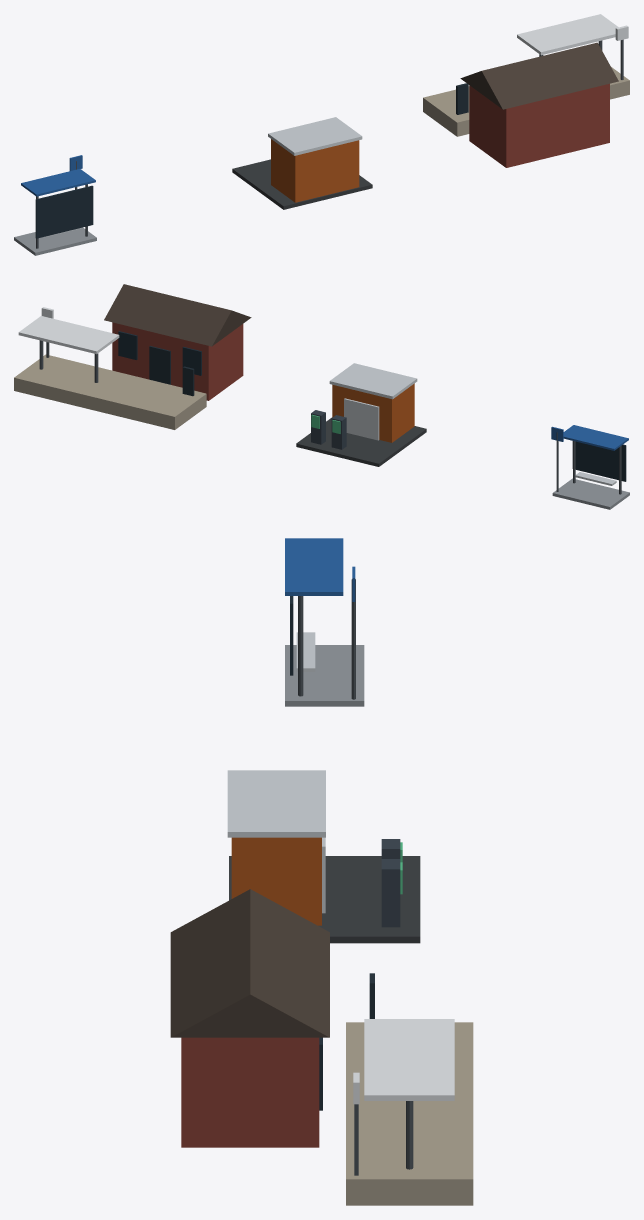
The model's file is stations.glb.
3 views of the same model, one above another, from view 1: azimuth 30°, elevation 25°; view 2: azimuth 150°, elevation 25°; view 3: azimuth 270°, elevation 25° (orthographic). The views are drawn at different scales.
Parts seen in each view (by area): view 1: trainStation, truckStop, busStop; view 2: trainStation, truckStop, busStop; view 3: trainStation, truckStop, busStop.
Boxes of the visible parts, <box> form: trainStation: <box>423,14,629,167</box>; truckStop: <box>232,117,372,209</box>; busStop: <box>14,155,96,255</box>; trainStation: <box>14,284,251,429</box>; truckStop: <box>296,363,426,466</box>; busStop: <box>551,425,629,509</box>; trainStation: <box>170,889,473,1205</box>; truckStop: <box>227,770,420,943</box>; busStop: <box>285,538,364,706</box>.
Size of the model in its own units: 24.77 by 3.3 by 5.7.
